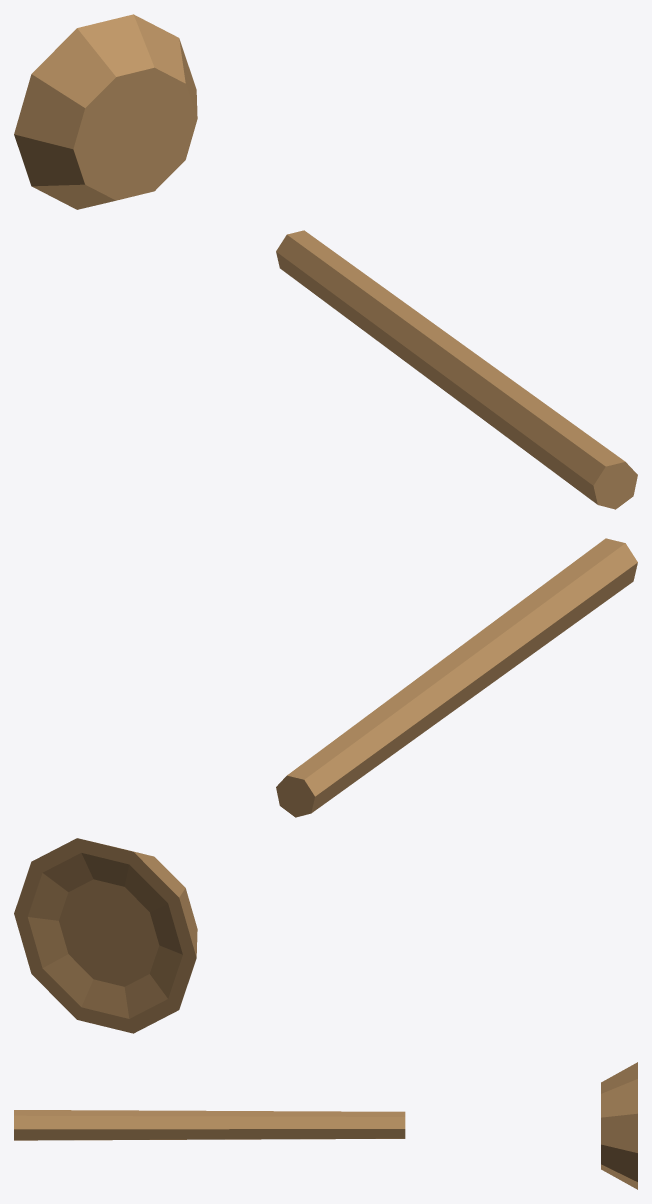
Rendered from Tool_Spoon.fbx.
3 renders of one model, top to bottom at view 1: azimuth 30°, elevation 25°; view 2: azimuth 150°, elevation 25°; view 3: azimuth 270°, elevation 25°, orthographic. The views are drawn at different scales.
Parts seen in each view (by area): view 1: Tool_Spoon; view 2: Tool_Spoon; view 3: Tool_Spoon.
Boxes of the visible parts, left/top/right/bottom form: Tool_Spoon: left=14, top=14, right=637, bottom=509; Tool_Spoon: left=14, top=538, right=637, bottom=1033; Tool_Spoon: left=14, top=1062, right=637, bottom=1189.
Size of the model in its own units: 0.0951 by 0.0904 by 0.46.
